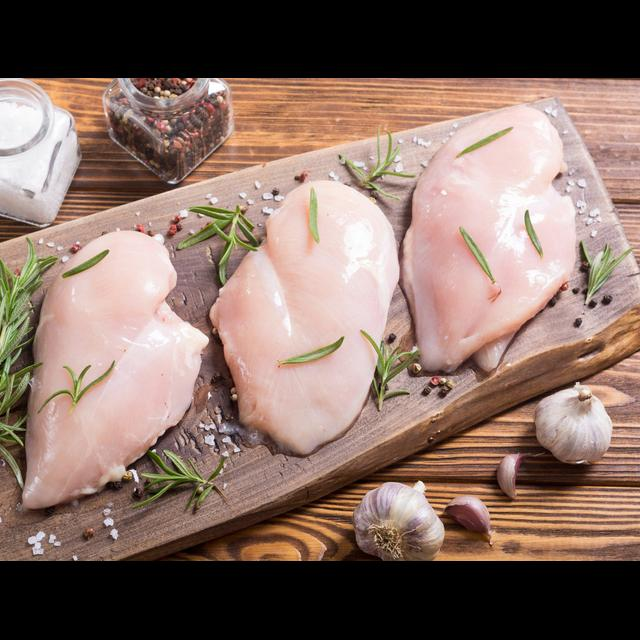chicken: (20, 229, 210, 513), (209, 178, 399, 456), (401, 105, 578, 374)
